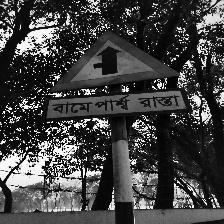Side-road-left: (46, 30, 191, 123)
